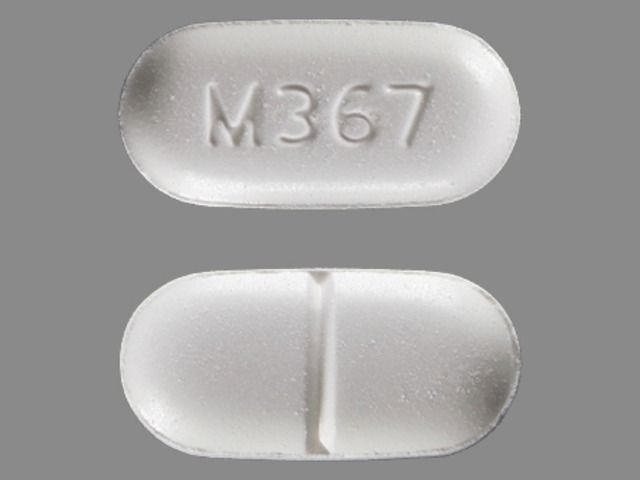Acetaminophen 325 MG Oral Tablet: (107, 256, 536, 472), (108, 10, 533, 220)
